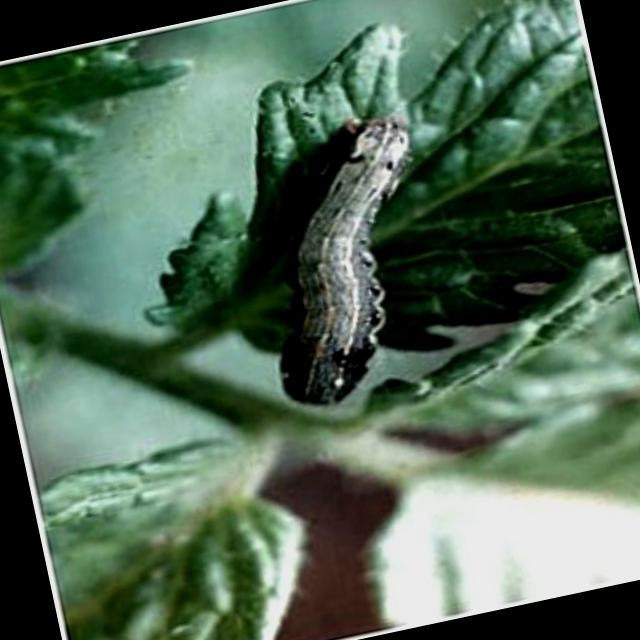Tobacco cutworm: (194, 93, 522, 451)
